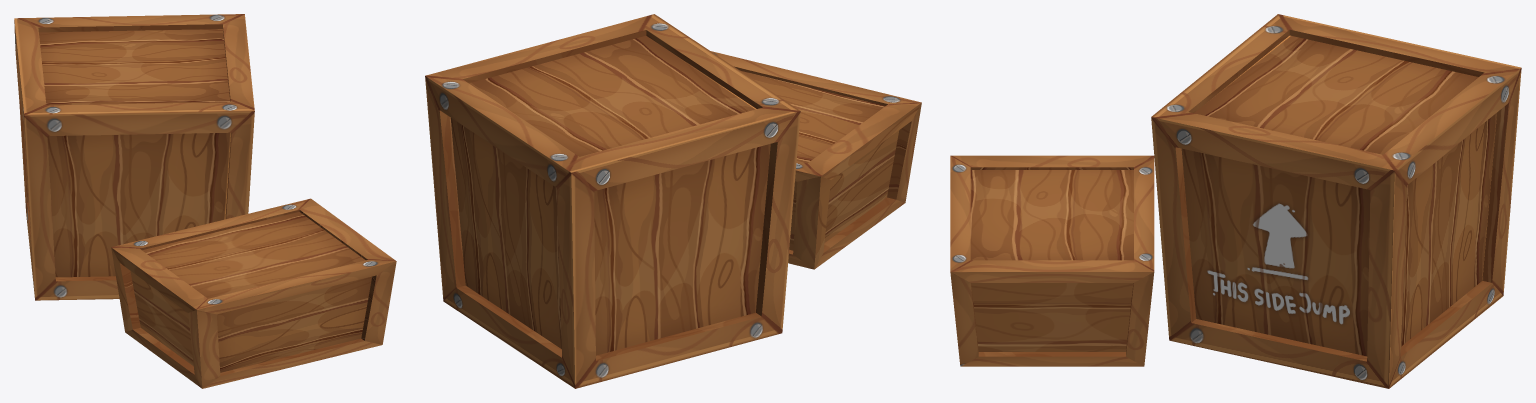
Rendered from lifesaver.fbx.
3 renders of one model, left to right at view 1: azimuth 30°, elevation 25°; view 2: azimuth 150°, elevation 25°; view 3: azimuth 270°, elevation 25°, orthographic. The views are drawn at different scales.
Visible parts, largest first — view 1: Cube, Cube.001; view 2: Cube, Cube.001; view 3: Cube, Cube.001.
Boxes of the visible parts, x1,y1,x2,y2 form: Cube: [14, 14, 254, 300]; Cube.001: [111, 198, 396, 388]; Cube: [425, 14, 800, 388]; Cube.001: [711, 51, 921, 269]; Cube: [1151, 14, 1521, 388]; Cube.001: [950, 155, 1154, 366].
Size of the model in its own units: 136 by 91.35 by 209.
Materials: 1 (1 with a texture image).
